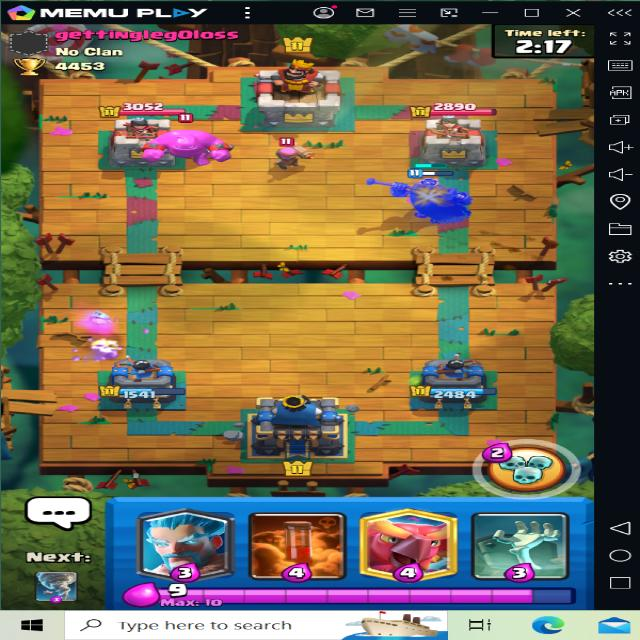Egolem: (133, 110, 237, 164)
Firecracker: (250, 132, 316, 173)
